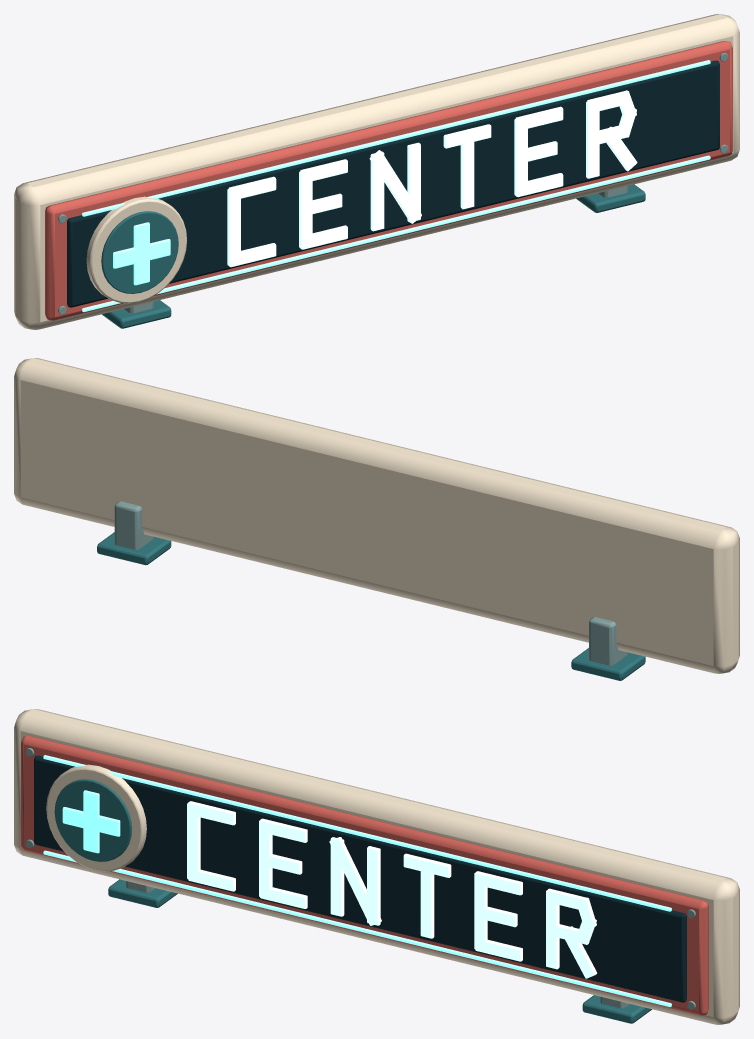
Rendered from center-sign.glb.
The picture shows the model from 3 angles, top to bottom: view 1: azimuth 30°, elevation 25°; view 2: azimuth 150°, elevation 25°; view 3: azimuth 330°, elevation 25°; orthographic projection.
Parts seen in each view (by area): view 1: ScreenGlass, CeramicCream, CoralEnamel, ScreenTrace, StatusGlow, DeepTeal, BrushedMetal; view 2: CeramicCream, BrushedMetal, DeepTeal; view 3: ScreenGlass, CeramicCream, CoralEnamel, ScreenTrace, StatusGlow, DeepTeal, BrushedMetal.
Boxes of the visible parts, x1,y1,x2,y2 form: ScreenGlass: (67,60,719,307); CeramicCream: (14,14,739,329); CoralEnamel: (45,41,732,320); ScreenTrace: (227,90,637,267); StatusGlow: (82,60,710,311); DeepTeal: (101,184,645,328); BrushedMetal: (58,53,728,314); CeramicCream: (14,358,739,673); BrushedMetal: (114,501,627,665); DeepTeal: (97,532,645,680); ScreenGlass: (34,755,686,1002); CeramicCream: (14,709,739,1024); CoralEnamel: (21,736,708,1015); ScreenTrace: (187,801,596,978); StatusGlow: (43,755,671,1006); DeepTeal: (54,779,651,1023); BrushedMetal: (25,748,695,1009).
Size of the model in its own units: 5.9 by 1.26 by 0.63.
